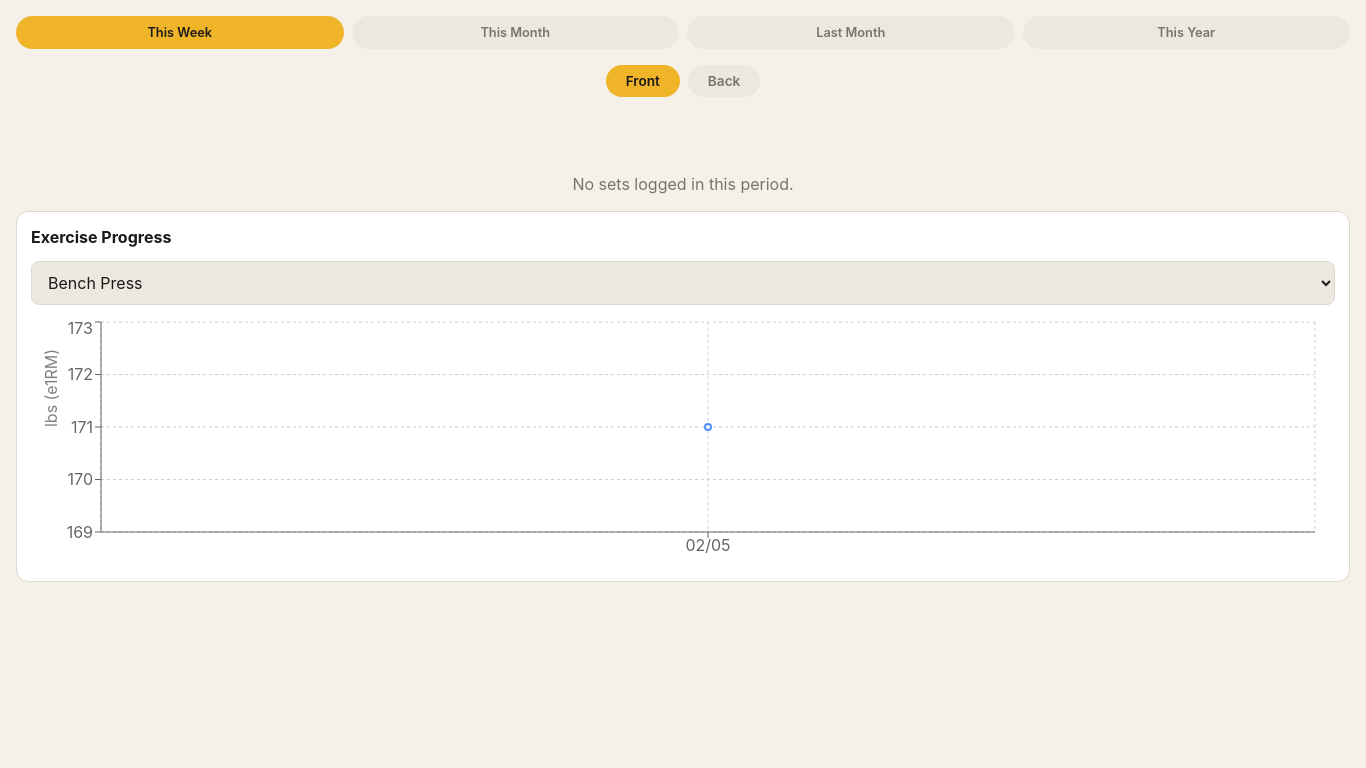
Test case: StatsView › shows muscle-last span with formatted date when a set exists
Note: Switch to month so Feb 5 sets appear in the period
Click the button "This Month" at (515, 32), box [352,16,679,49]
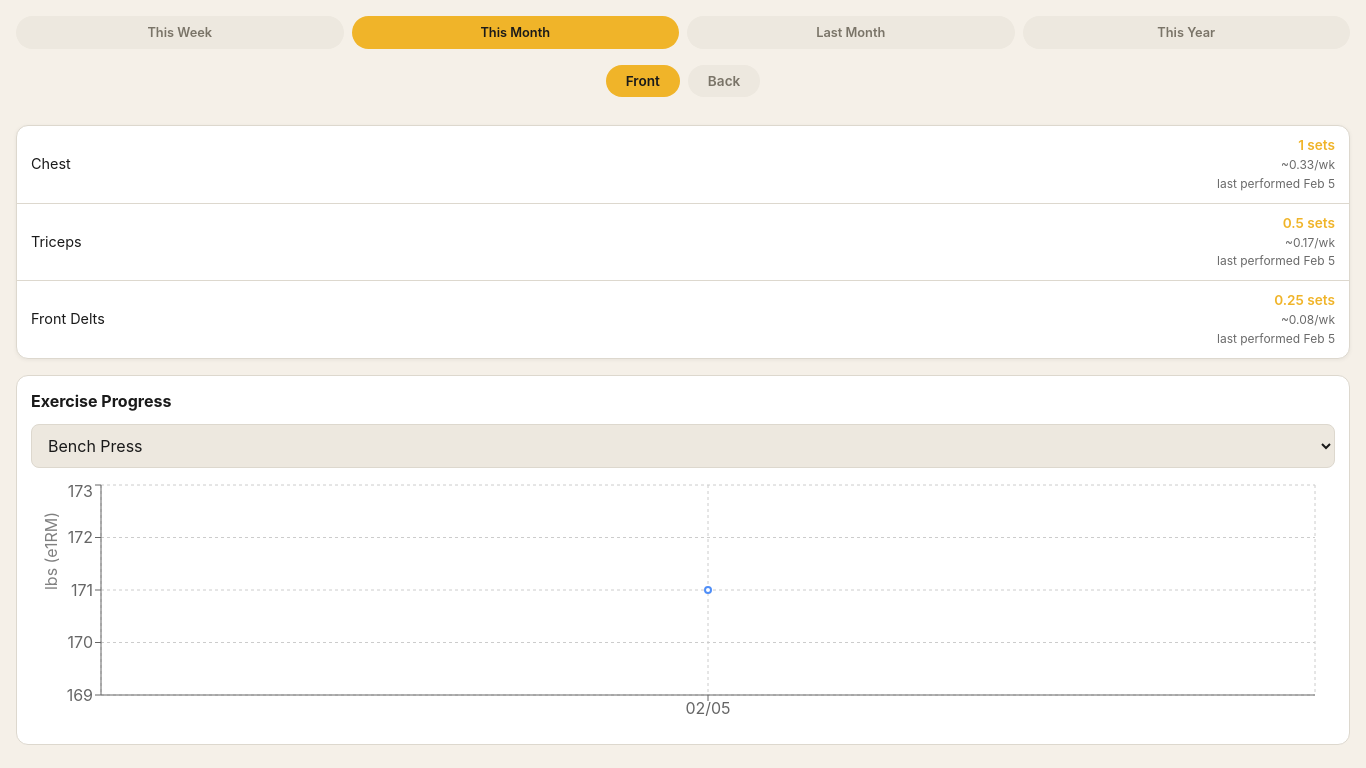
Expected: the text "last performed Feb 5" below "0.33" is shown, [1217,176,1335,193]
